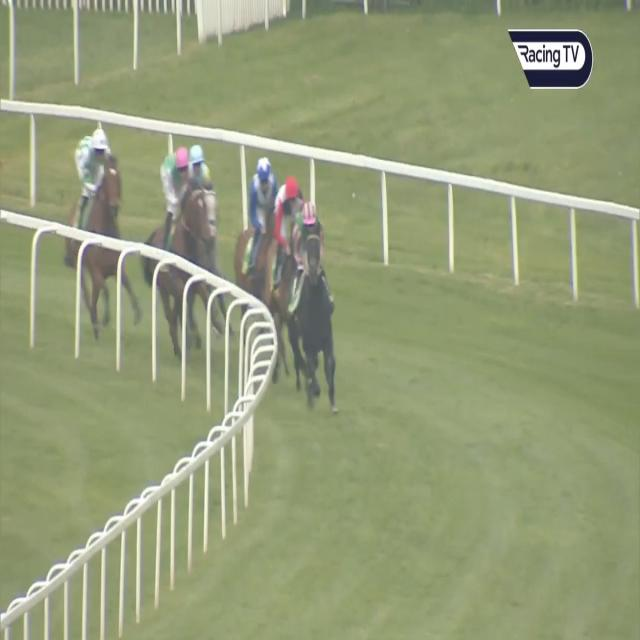horses-racing: (68, 124, 126, 324), (142, 142, 194, 342), (242, 151, 278, 347), (297, 200, 329, 412), (264, 176, 308, 302), (188, 144, 213, 238)
